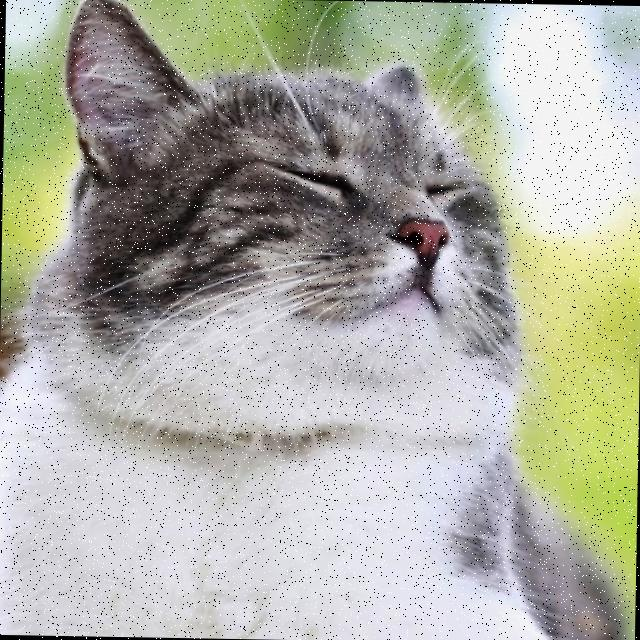Happy: (194, 97, 497, 396)
